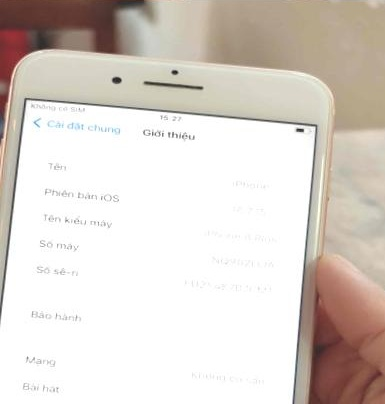scratch: (310, 145, 333, 261), (19, 41, 52, 57), (7, 112, 19, 133)
